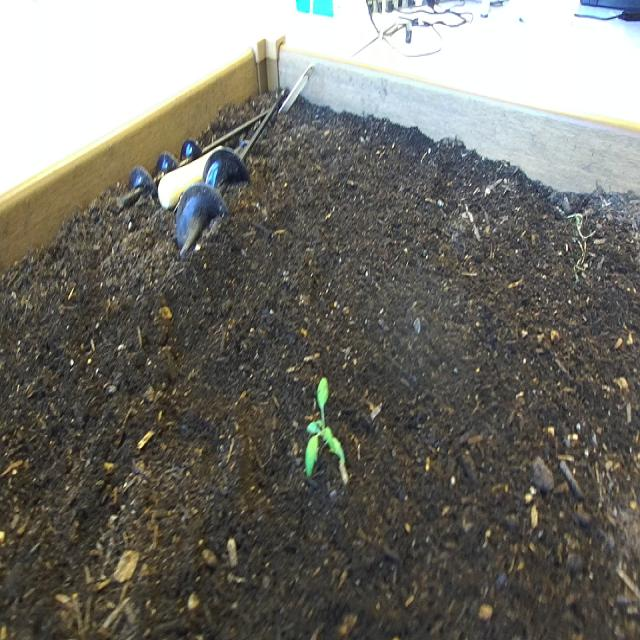Healthy: (302, 372, 346, 485)
